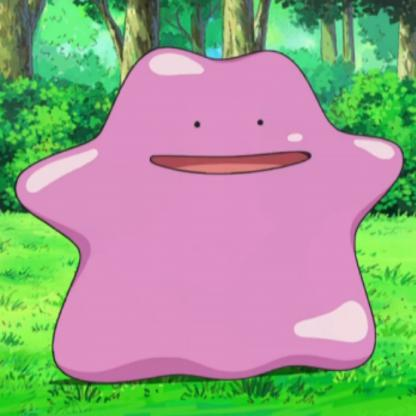Ditto: (16, 46, 406, 381)
